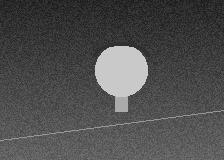no_helmet: (95, 42, 147, 101)
